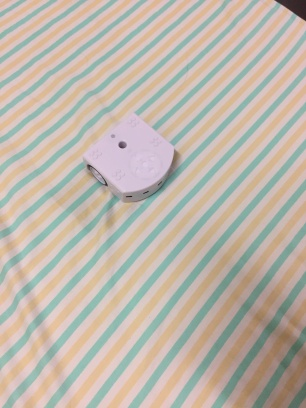thymio: (80, 108, 180, 205)
